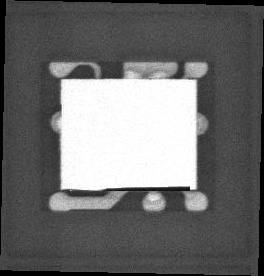DIE_BROKEN: (101, 184, 194, 192)
